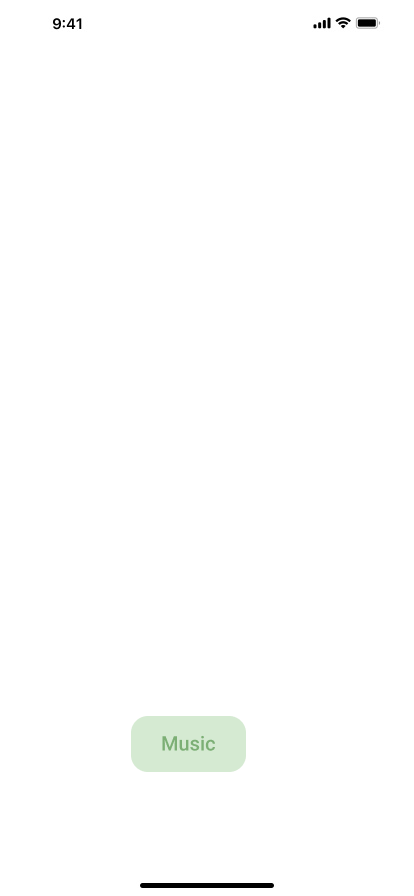Buttons: (131, 716, 254, 772)
Home Indicator: (0, 862, 414, 896)
Status Bar: (0, 0, 414, 44)
